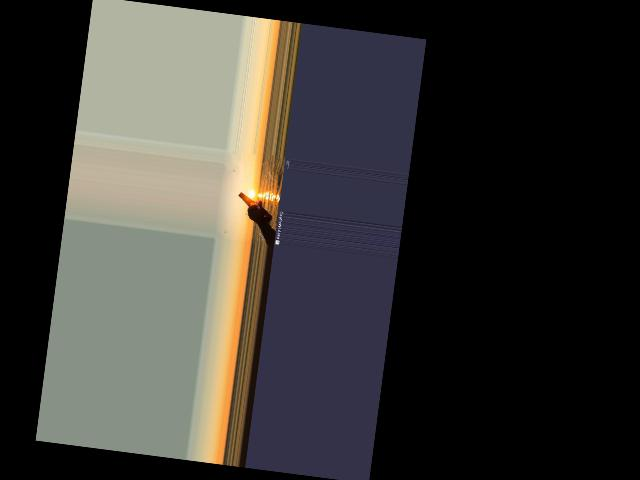beer: (235, 191, 275, 223)
